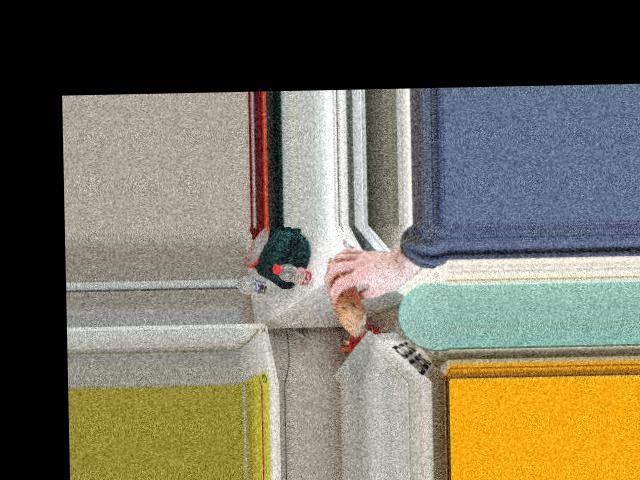sweet_potato: (325, 252, 364, 334)
